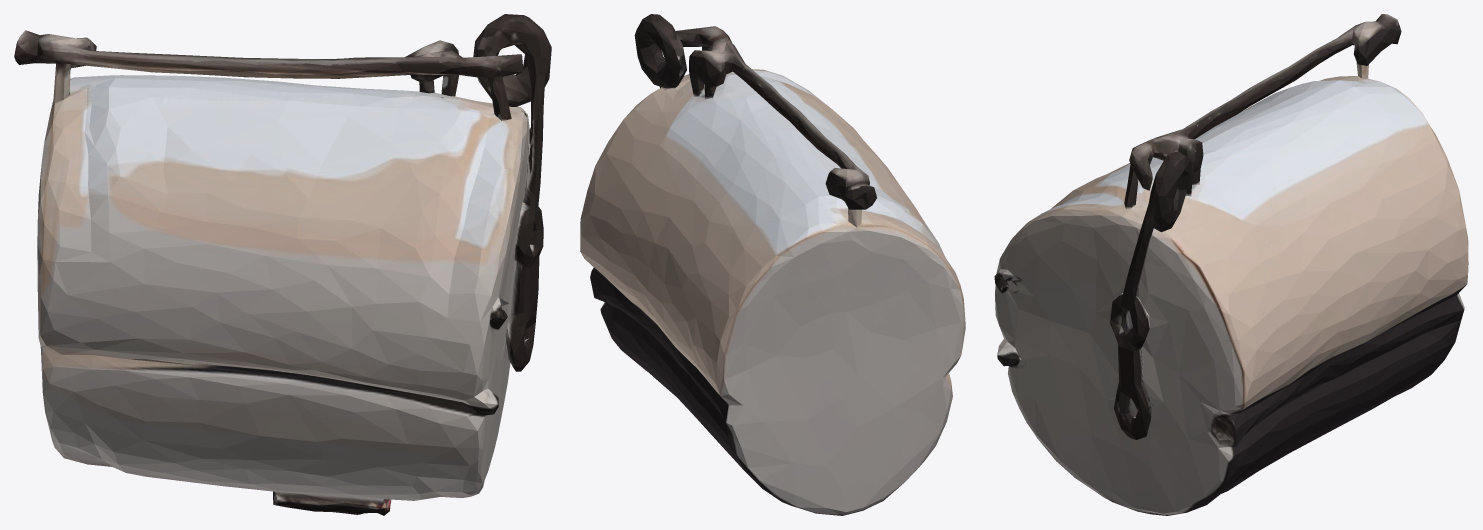
File: bandage.glb
The picture shows the model from 3 angles, left to right: view 1: azimuth 30°, elevation 25°; view 2: azimuth 150°, elevation 25°; view 3: azimuth 270°, elevation 25°; orthographic projection. The views are drawn at different scales.
Visible parts, largest first — view 1: tmpwm061uo8.ply; view 2: tmpwm061uo8.ply; view 3: tmpwm061uo8.ply.
Boxes of the visible parts, bbox=[...] form: tmpwm061uo8.ply: bbox=[14, 14, 551, 515]; tmpwm061uo8.ply: bbox=[580, 14, 965, 515]; tmpwm061uo8.ply: bbox=[994, 14, 1468, 515].
Bounding box in the file's own units: 1.99 × 1.88 × 1.99.
Materials: 1 (1 with a texture image).
